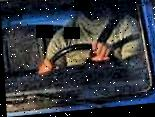seatbelt: (85, 13, 134, 58)
